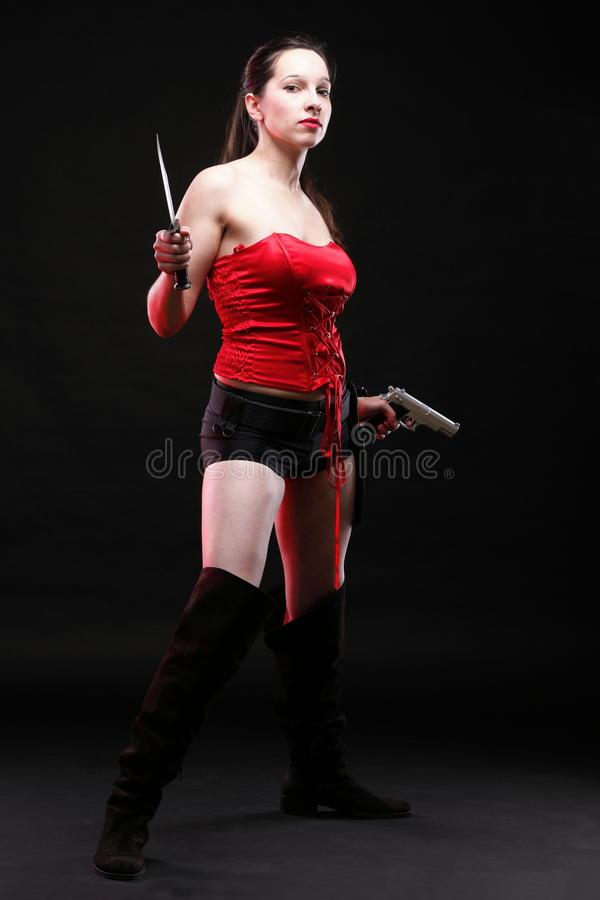criminal: (88, 30, 470, 887)
weapon: (352, 378, 468, 447), (148, 128, 194, 293)
